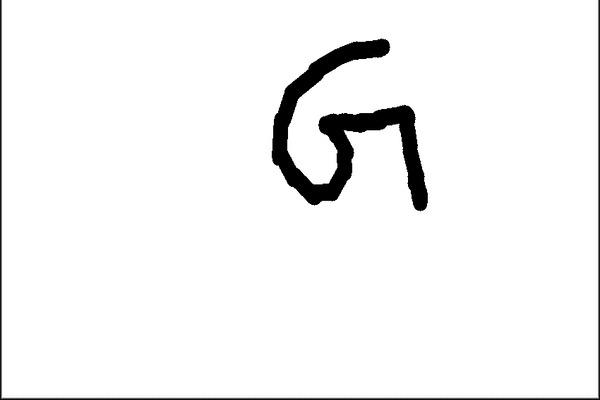G: (268, 32, 431, 218)
